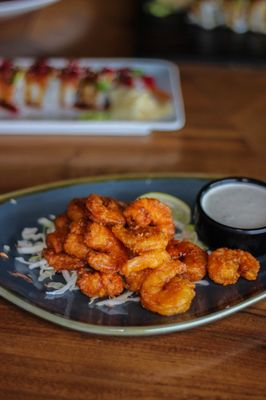sushi: (195, 177, 266, 255)
